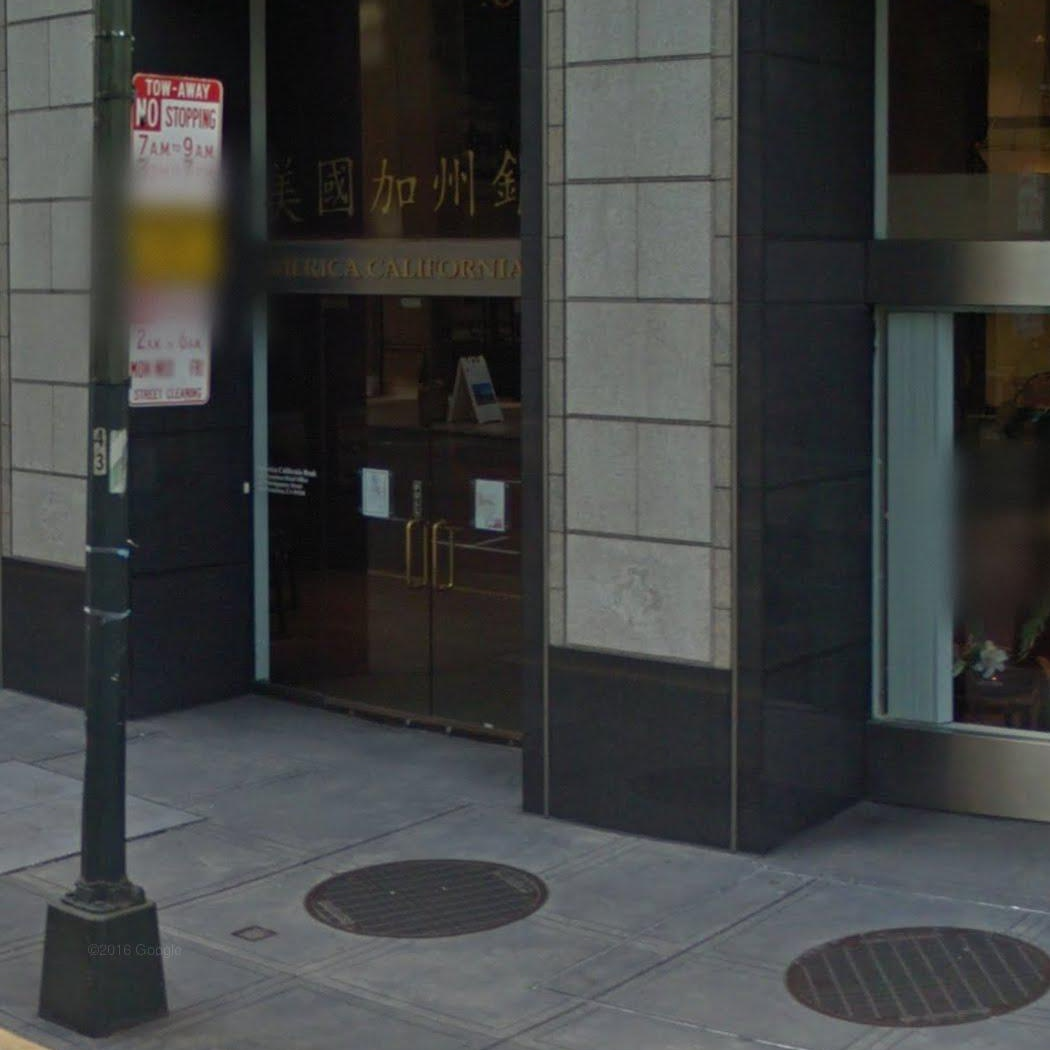No Parking: (126, 279, 213, 406)
